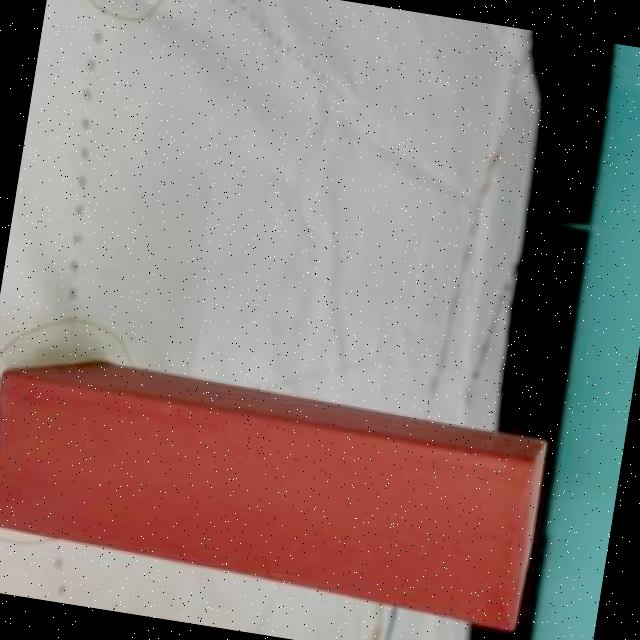redbox: (0, 345, 551, 632)
